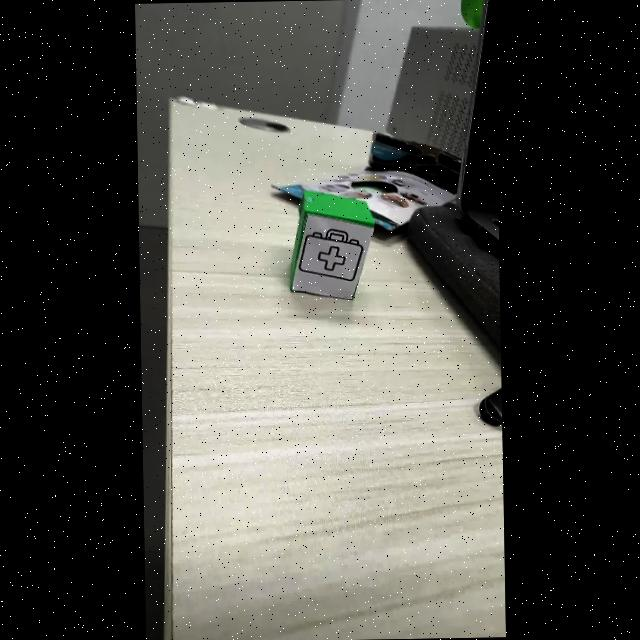Medkit: (299, 229, 362, 281)
